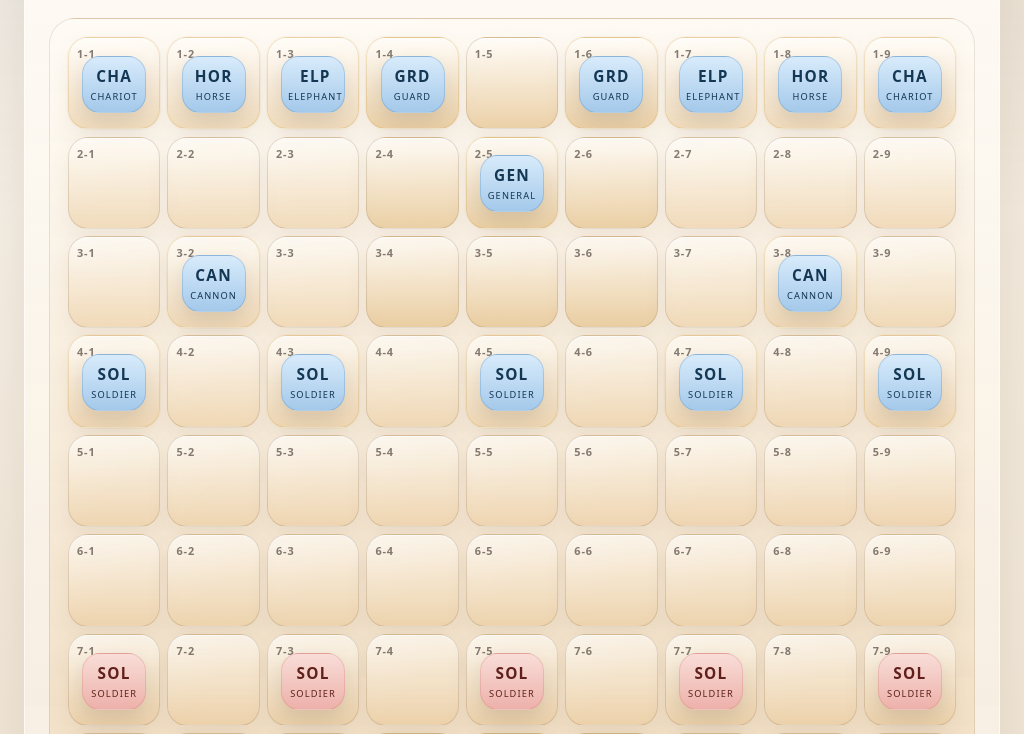
Test case: App board interactions › undoes the latest move from the sidebar controls
(page scrolled)
Click the button "4-1 SOL Soldier".
click(114, 382)  # box [68, 336, 160, 428]
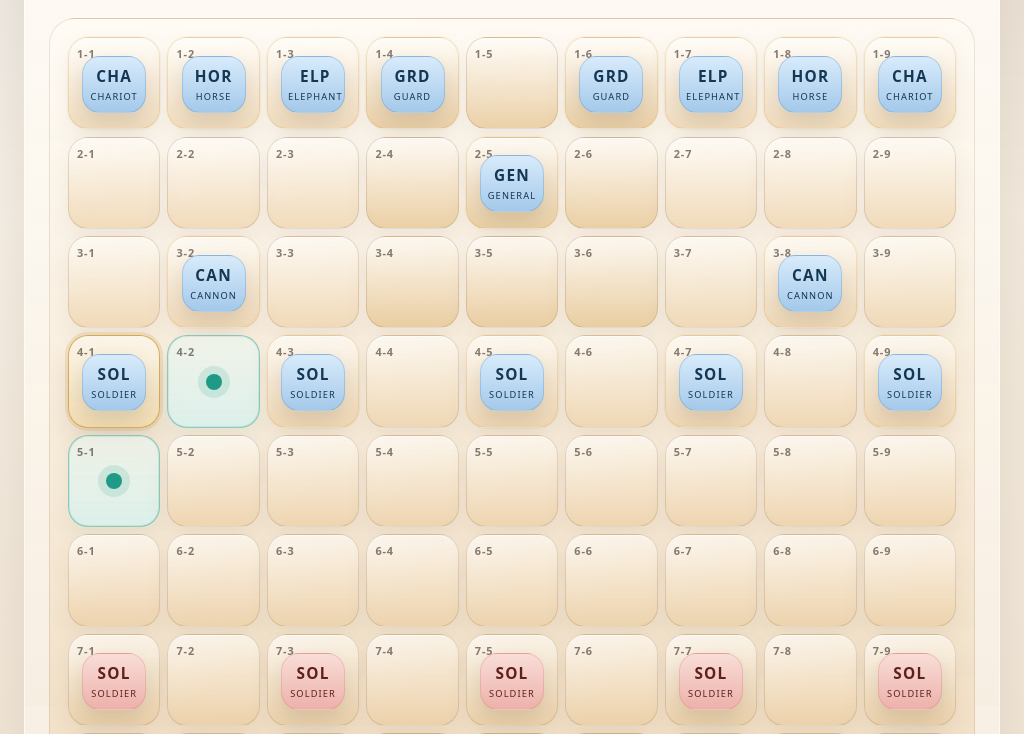
Click the button "5-1".
click(114, 481)  # box [68, 435, 160, 527]
(page scrolled)
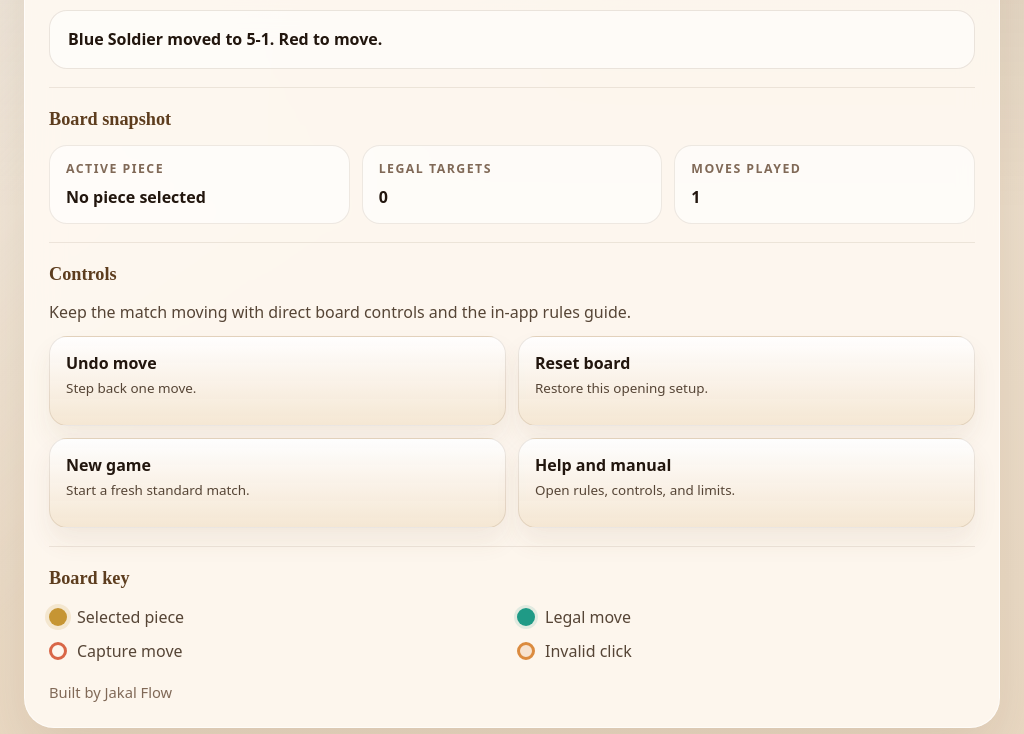
Click the button "Undo move Step back one move.".
click(111, 363)  # box [49, 336, 506, 426]
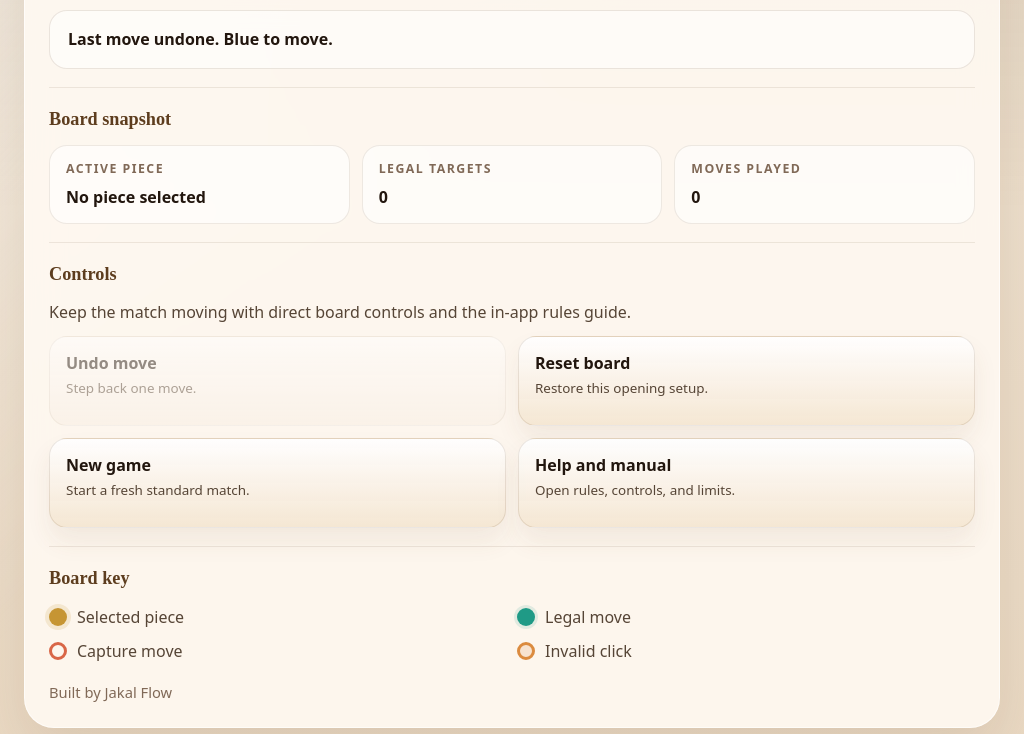
Expected: the message shows "Last move undone", [68, 28, 333, 50]
